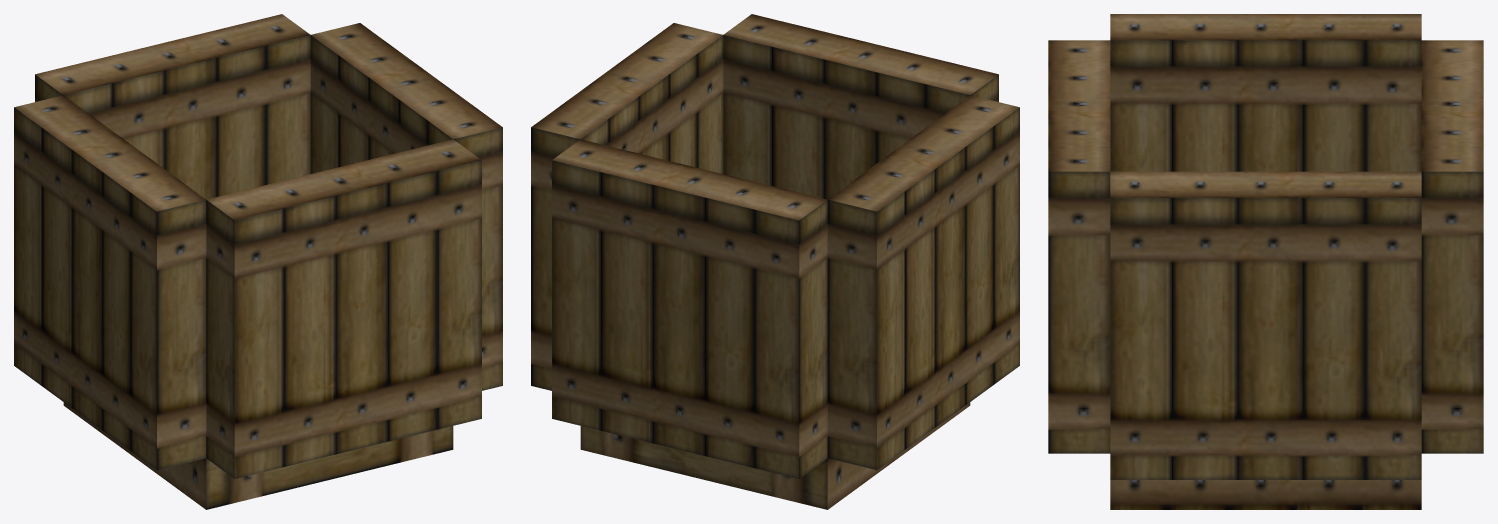
Rendered from barrel.fbx.
The picture shows the model from 3 angles, left to right: view 1: azimuth 30°, elevation 25°; view 2: azimuth 150°, elevation 25°; view 3: azimuth 270°, elevation 25°; orthographic projection. The views are drawn at different scales.
Parts seen in each view (by area): view 1: Barrel; view 2: Barrel; view 3: Barrel.
Part boxes in pixels (x1,y1,x2,y2): Barrel: (14,14,502,509); Barrel: (531,14,1019,509); Barrel: (1048,14,1483,509).
Size of the model in its own units: 1.4 by 1.4 by 1.2.
1 material, 1 textured.
